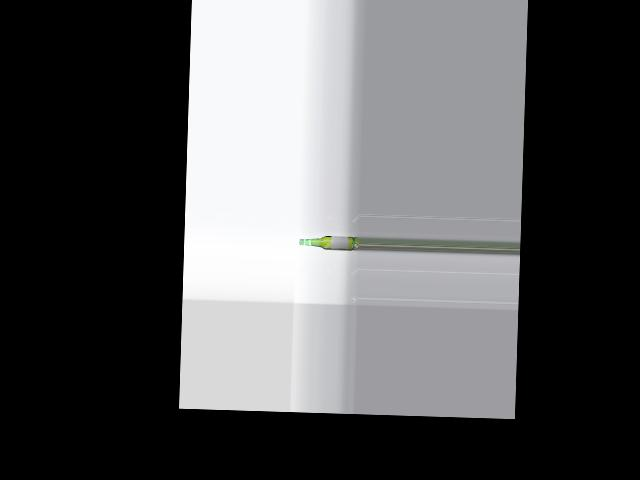beer: (299, 235, 354, 250)
